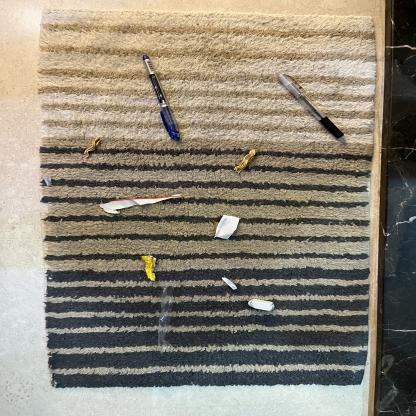dirty: (100, 194, 181, 214), (156, 280, 175, 352), (214, 215, 239, 239), (234, 148, 255, 174), (141, 255, 157, 282), (84, 138, 100, 158), (221, 277, 238, 290), (43, 176, 52, 186)
